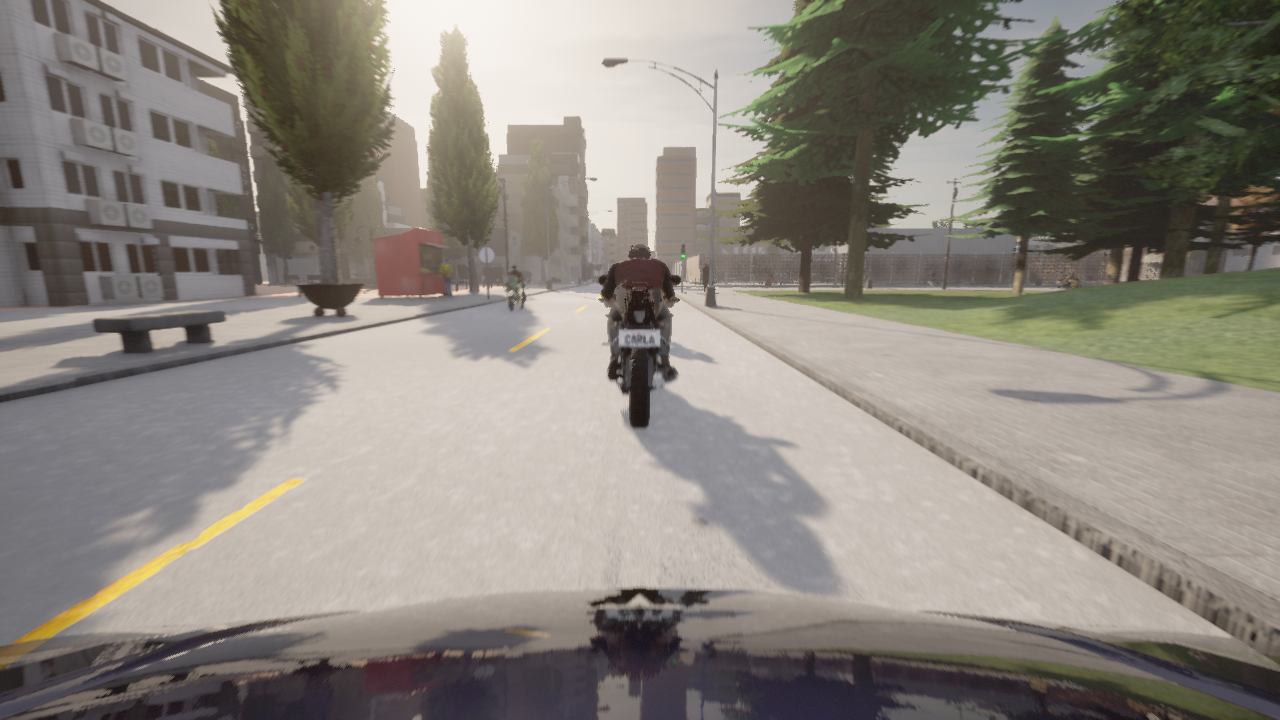cyclist: (0, 588, 1279, 719), (599, 275, 680, 427), (499, 275, 528, 311), (1056, 277, 1081, 288), (759, 274, 778, 287), (924, 275, 941, 288), (742, 271, 763, 280), (721, 268, 734, 280), (810, 269, 820, 280), (776, 272, 787, 279), (747, 276, 760, 280)
pedestrian: (439, 257, 453, 298), (701, 262, 708, 292)
